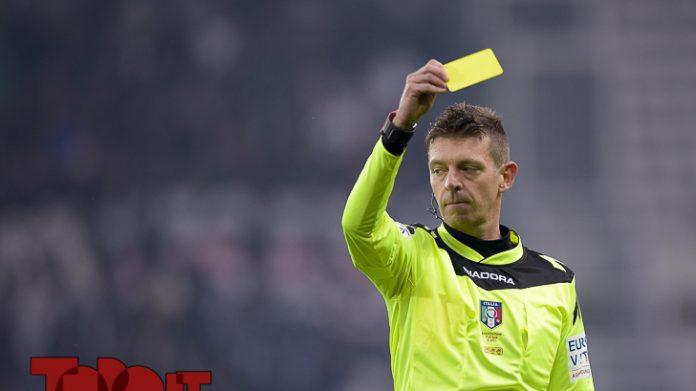yellow_card: (374, 23, 512, 126)
